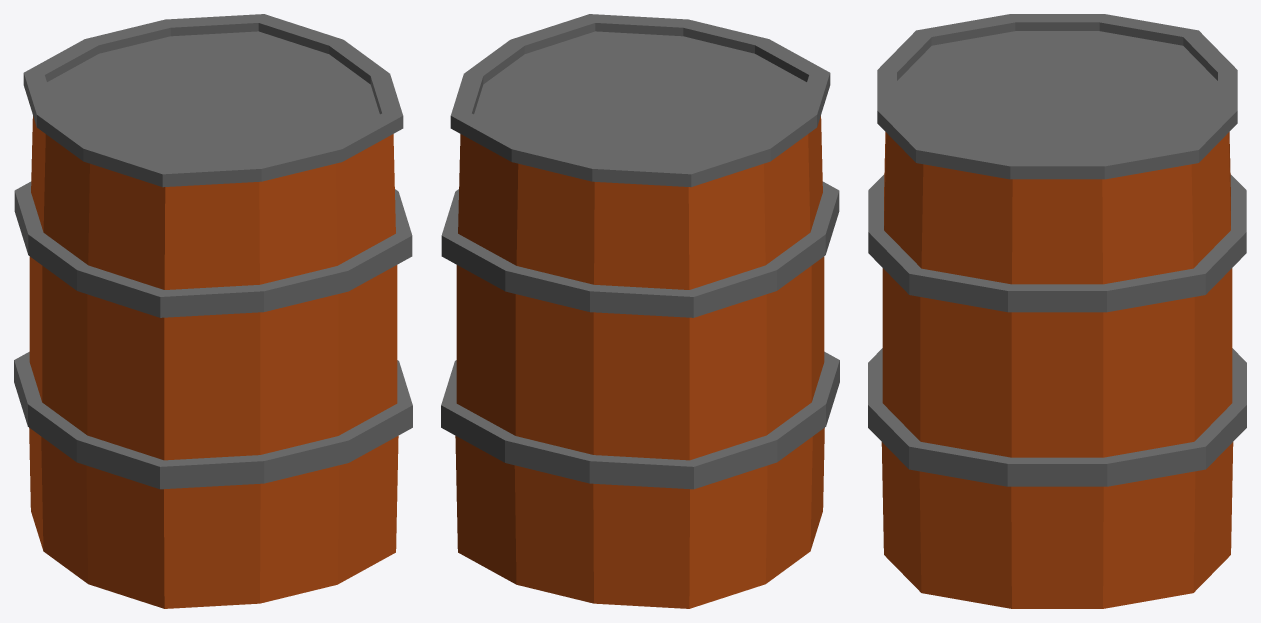
3 renders of one model, left to right at view 1: azimuth 30°, elevation 25°; view 2: azimuth 150°, elevation 25°; view 3: azimuth 270°, elevation 25°, orthographic.
Parts seen in each view (by area): view 1: G-19; view 2: G-19; view 3: G-19.
Boxes of the visible parts, x1,y1,x2,y2 form: G-19: (14,14,412,608); G-19: (441,14,839,608); G-19: (868,14,1246,608).
Size of the model in its own units: 145 by 188 by 145.
